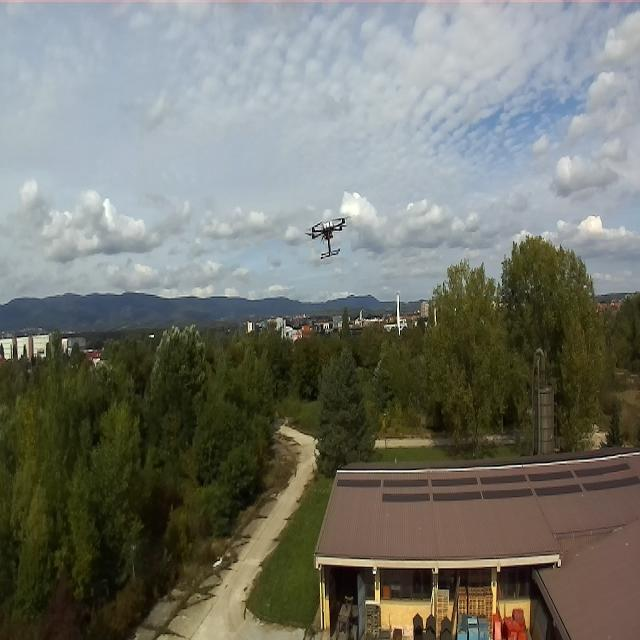UAV: (304, 208, 356, 266)
